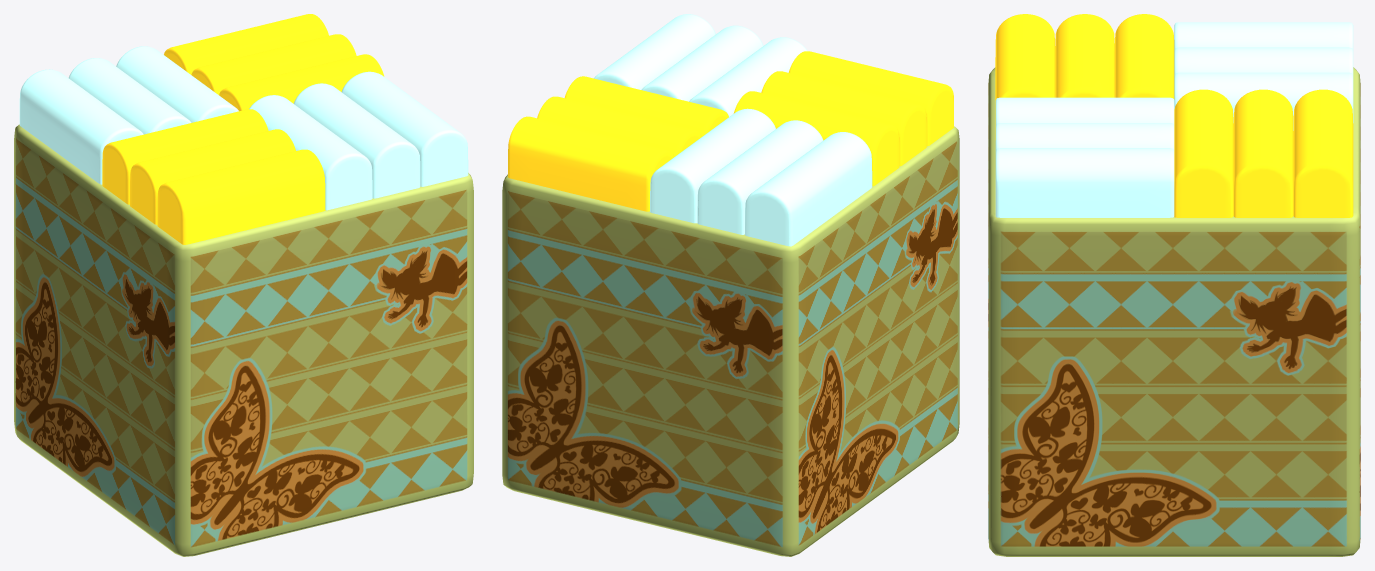
File: floor1.fbx
3 views of the same model, side by side, from view 1: azimuth 30°, elevation 25°; view 2: azimuth 150°, elevation 25°; view 3: azimuth 270°, elevation 25° (orthographic). The views are drawn at different scales.
Visible parts, largest first — view 1: Cube_2; view 2: Cube_2; view 3: Cube_2.
Boxes of the visible parts, x1=… form: Cube_2: x1=14, y1=14, x2=473, y2=556; Cube_2: x1=502, y1=14, x2=959, y2=556; Cube_2: x1=988, y1=14, x2=1360, y2=556.
Bounding box in the file's own units: 100 × 116 × 100.
3 materials, 1 textured.
